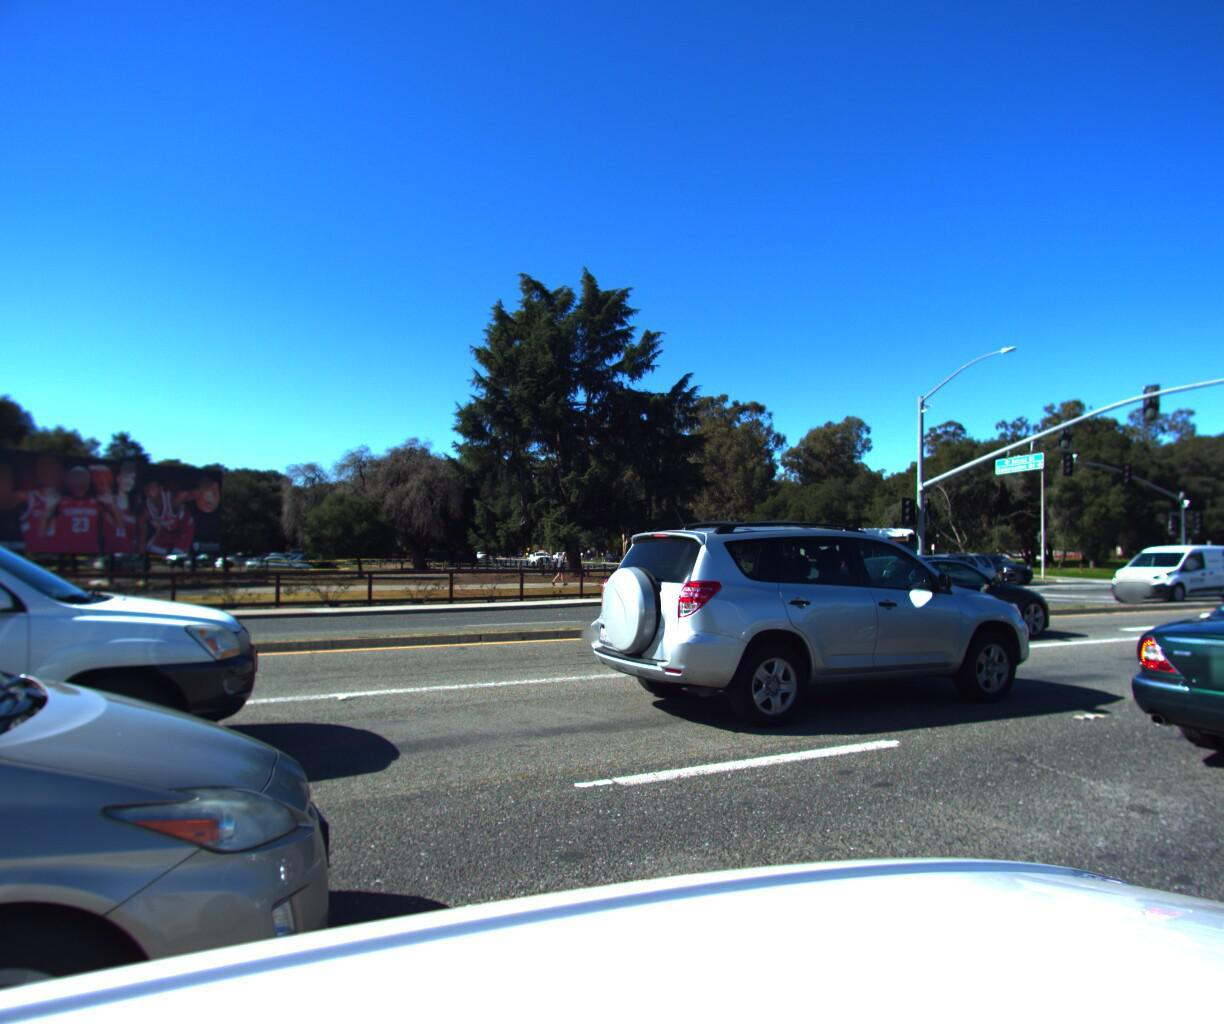bus: (795, 519, 934, 579)
car: (0, 475, 385, 1024), (0, 479, 283, 899), (563, 517, 1045, 748), (1110, 561, 1224, 842), (776, 553, 1060, 648), (872, 551, 1001, 598), (945, 551, 1038, 583)
other_vehicle: (1098, 538, 1224, 602)
